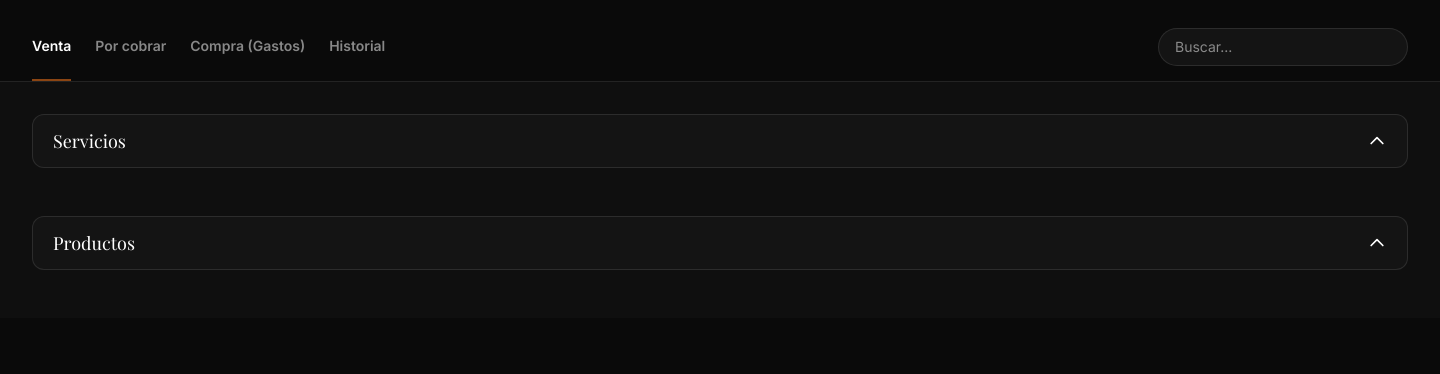
Test: POSManager › oculta las citas pendientes cuando no existen y presenta estados vacios
Click the button "Por cobrar": (131, 46) [95,12,166,80]
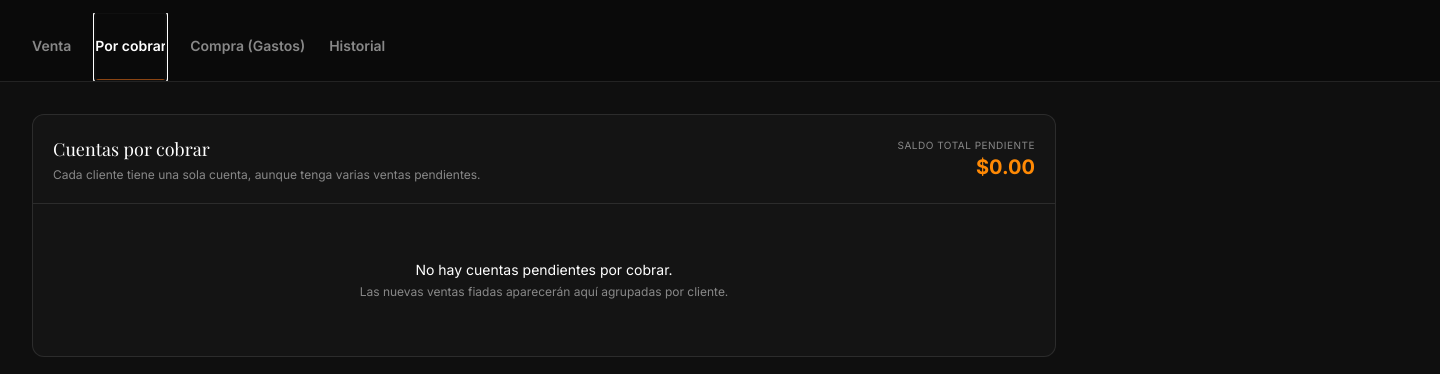
Now the text "No hay cuentas pendientes por cobrar." is shown, box [415,261,673,278]
